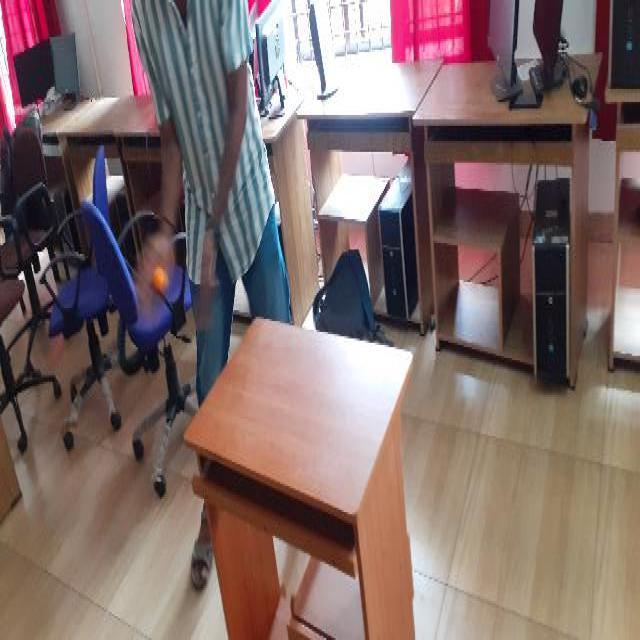oball: (154, 264, 166, 288)
